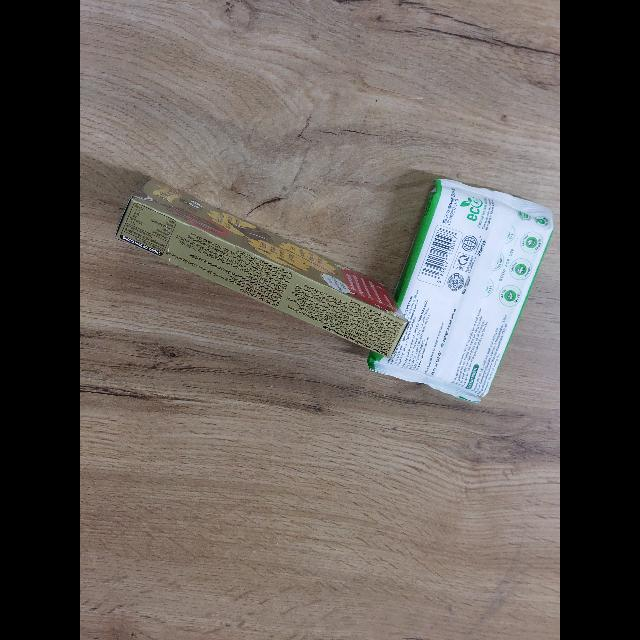banh_toppo_socola: (116, 180, 408, 358)
khan_giay: (368, 178, 553, 401)
